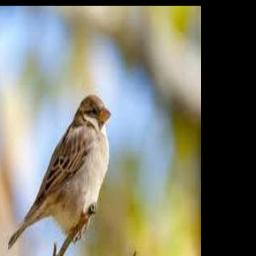Sparrow: (8, 93, 112, 252)
